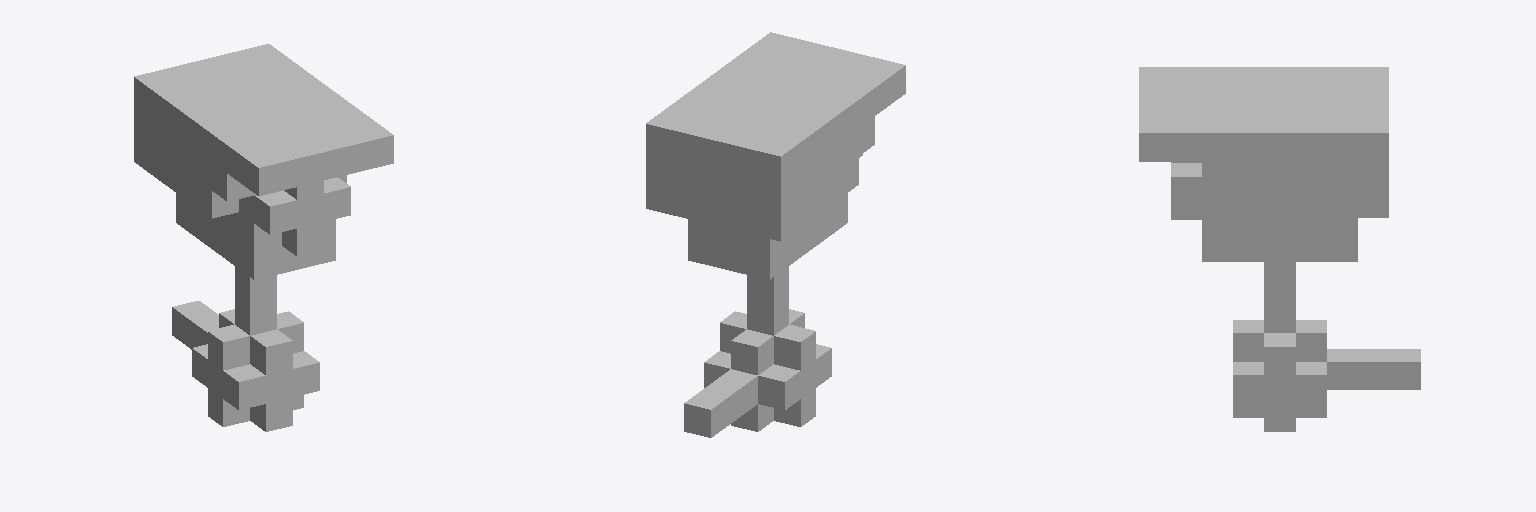
The model's file is camera.obj.
The picture shows the model from 3 angles: view 1: azimuth 30°, elevation 25°; view 2: azimuth 150°, elevation 25°; view 3: azimuth 270°, elevation 25°; orthographic projection.
Visible parts, largest first — view 1: object 1; view 2: object 1; view 3: object 1.
Part boxes in pixels (x1,y1,x2,y2): object 1: (134, 44, 393, 431); object 1: (646, 32, 905, 437); object 1: (1139, 67, 1420, 431).
Bounding box in the file's own units: 0.5 × 1.1 × 0.9.